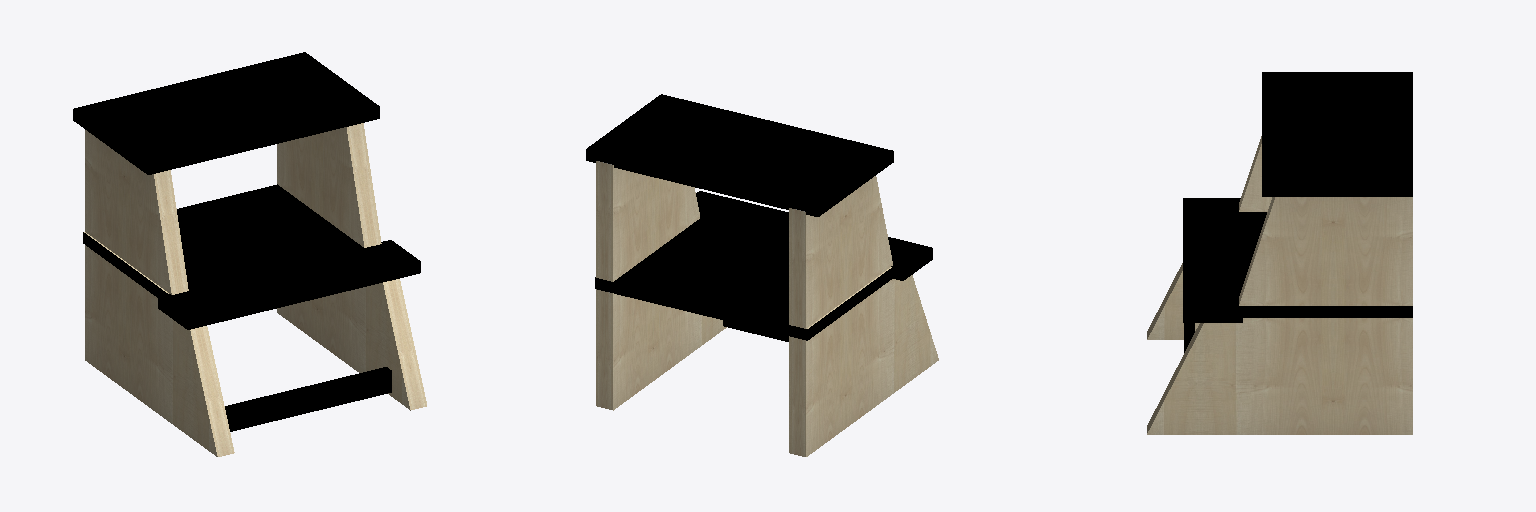
3 renders of one model, left to right at view 1: azimuth 30°, elevation 25°; view 2: azimuth 150°, elevation 25°; view 3: azimuth 270°, elevation 25°, orthographic.
Parts seen in each view (by area): view 1: Escalera:pCube11; view 2: Escalera:pCube11; view 3: Escalera:pCube11.
Part boxes in pixels (bbox=[...]): Escalera:pCube11: bbox=[73, 52, 426, 456]; Escalera:pCube11: bbox=[586, 94, 938, 456]; Escalera:pCube11: bbox=[1147, 72, 1412, 434].
Bounding box in the file's own units: 1.21 × 1.26 × 1.19.
Materials: 3 (1 with a texture image).